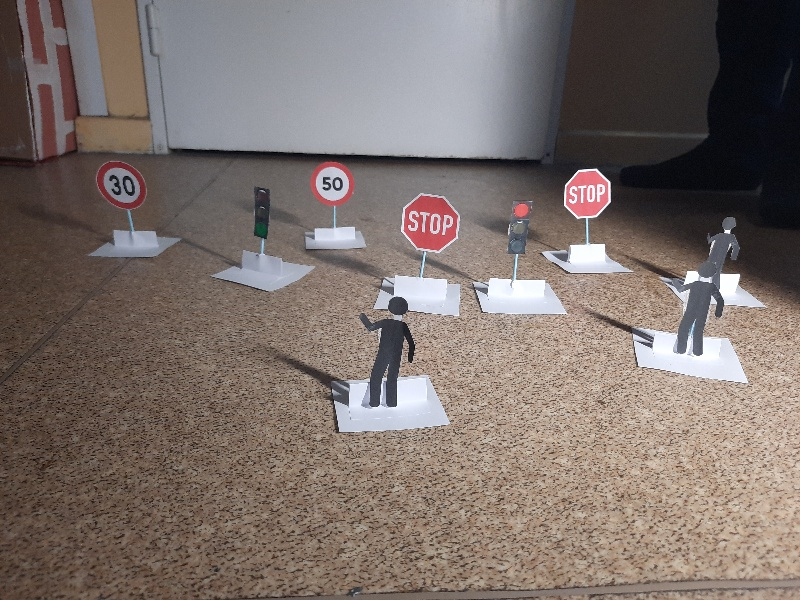Green: (249, 185, 275, 239)
Limit 30: (97, 162, 145, 208)
Limit 50: (313, 160, 353, 206)
Person: (362, 297, 414, 405), (677, 265, 722, 357), (706, 213, 737, 282)
Red: (506, 199, 533, 258)
Stop: (400, 190, 458, 251), (563, 167, 611, 219)
